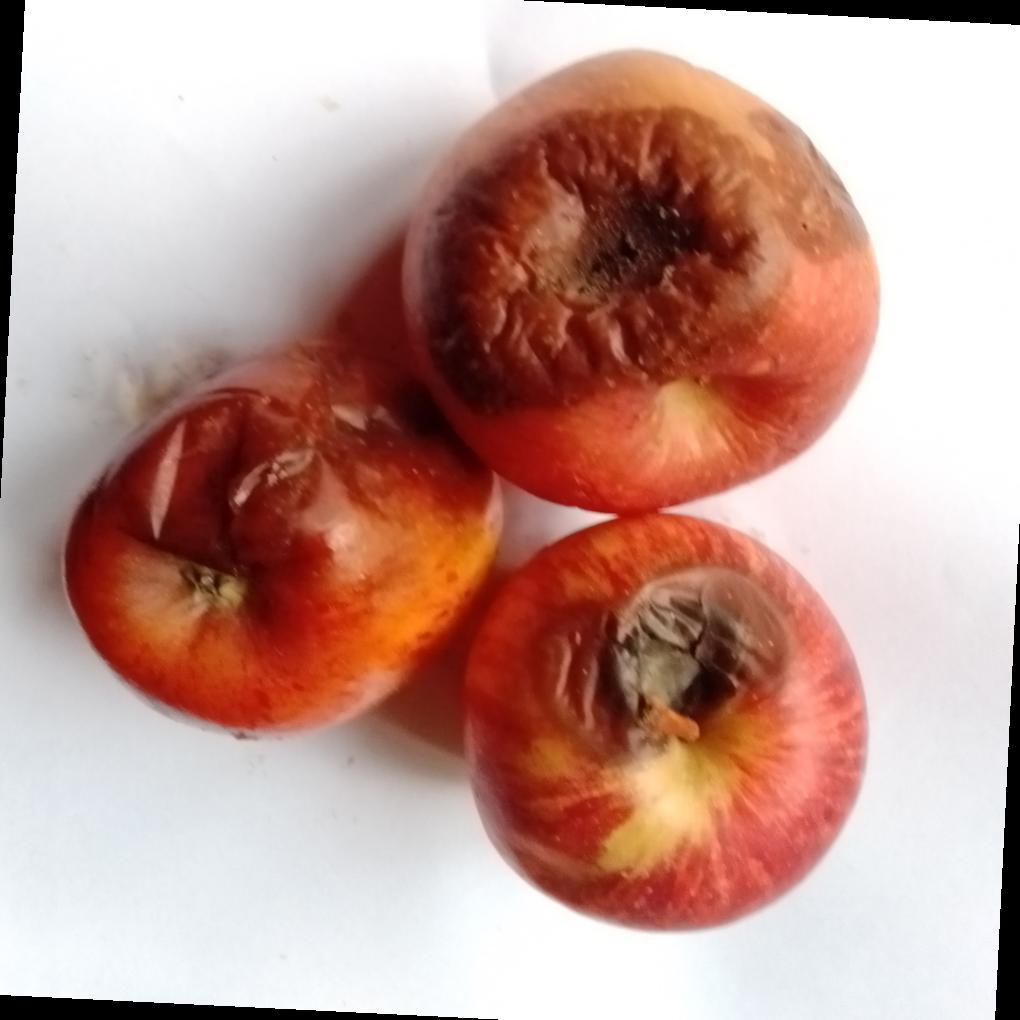FreshOrange: (65, 50, 882, 936)
